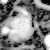node: (3, 12, 36, 45)
